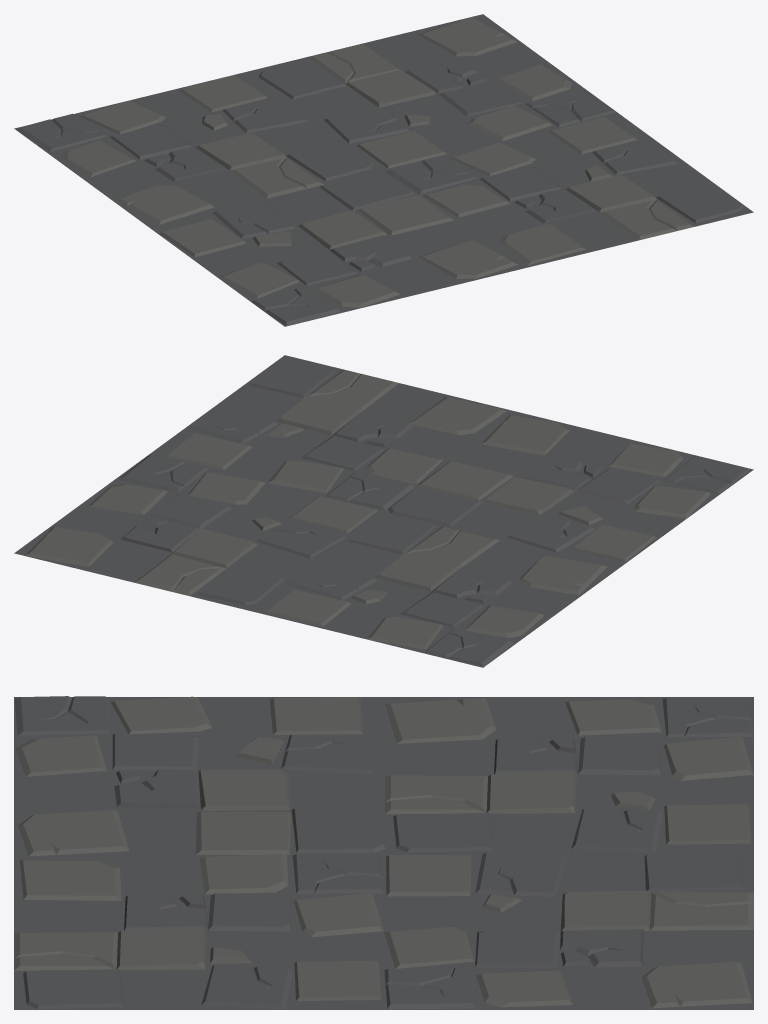
Rendered from Ground_Tiles_Large.gltf.
3 renders of one model, top to bottom at view 1: azimuth 30°, elevation 25°; view 2: azimuth 150°, elevation 25°; view 3: azimuth 270°, elevation 25°, orthographic. The views are drawn at different scales.
Visible parts, largest first — view 1: Ground_Tiles_Large2; view 2: Ground_Tiles_Large2; view 3: Ground_Tiles_Large2.
Boxes of the visible parts, x1,y1,x2,y2 form: Ground_Tiles_Large2: [14, 14, 753, 326]; Ground_Tiles_Large2: [14, 355, 753, 667]; Ground_Tiles_Large2: [14, 696, 753, 1009].
Size of the model in its own units: 2 by 0.0118 by 2.
Materials: 1 (1 with a texture image).
